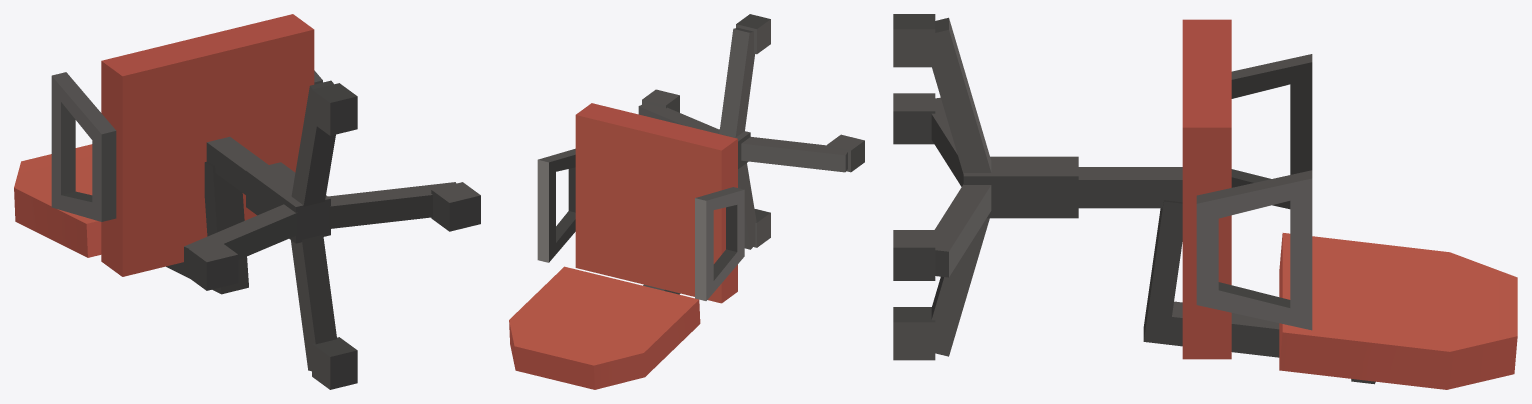
The model's file is Chair3.glb.
The picture shows the model from 3 angles, left to right: view 1: azimuth 30°, elevation 25°; view 2: azimuth 150°, elevation 25°; view 3: azimuth 270°, elevation 25°; orthographic projection. The views are drawn at different scales.
Visible parts, largest first — view 1: SO_Chair03; view 2: SO_Chair03; view 3: SO_Chair03.
Part boxes in pixels (x1,y1,x2,y2): SO_Chair03: (14,14,480,389); SO_Chair03: (509,14,864,389); SO_Chair03: (893,14,1517,389).
Size of the model in its own units: 1.24 by 1.34 by 2.12.
1 material, 1 textured.
